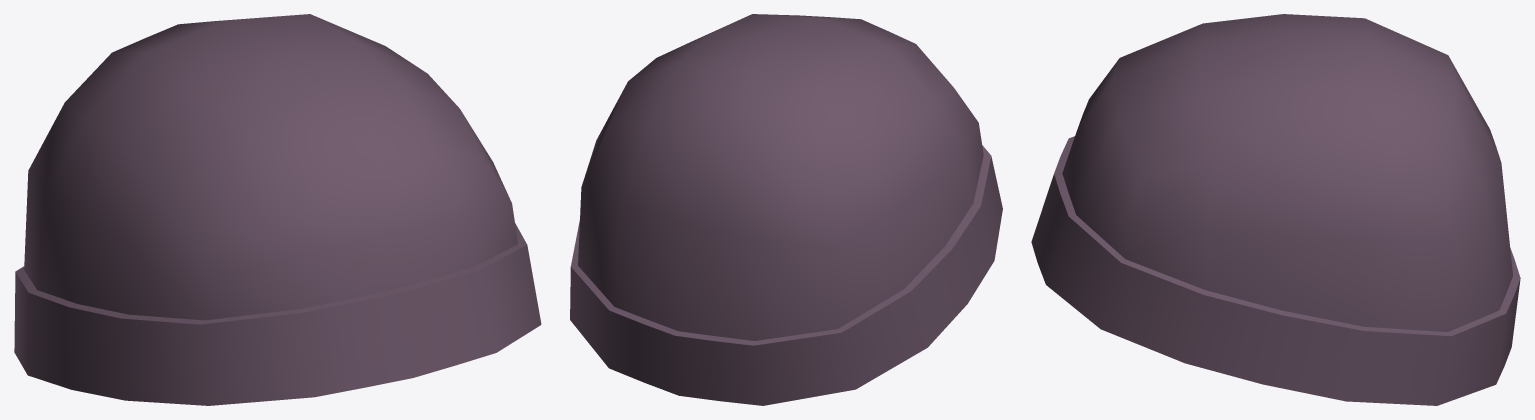
File: Beanie.fbx
The picture shows the model from 3 angles, left to right: view 1: azimuth 30°, elevation 25°; view 2: azimuth 150°, elevation 25°; view 3: azimuth 270°, elevation 25°; orthographic projection. The views are drawn at different scales.
Visible parts, largest first — view 1: Beanie; view 2: Beanie; view 3: Beanie.
Boxes of the visible parts, <box> form: Beanie: <box>14,14,541,405</box>; Beanie: <box>570,14,1002,405</box>; Beanie: <box>1031,14,1520,405</box>.
Size of the model in its own units: 44.55 by 49.05 by 33.97.
